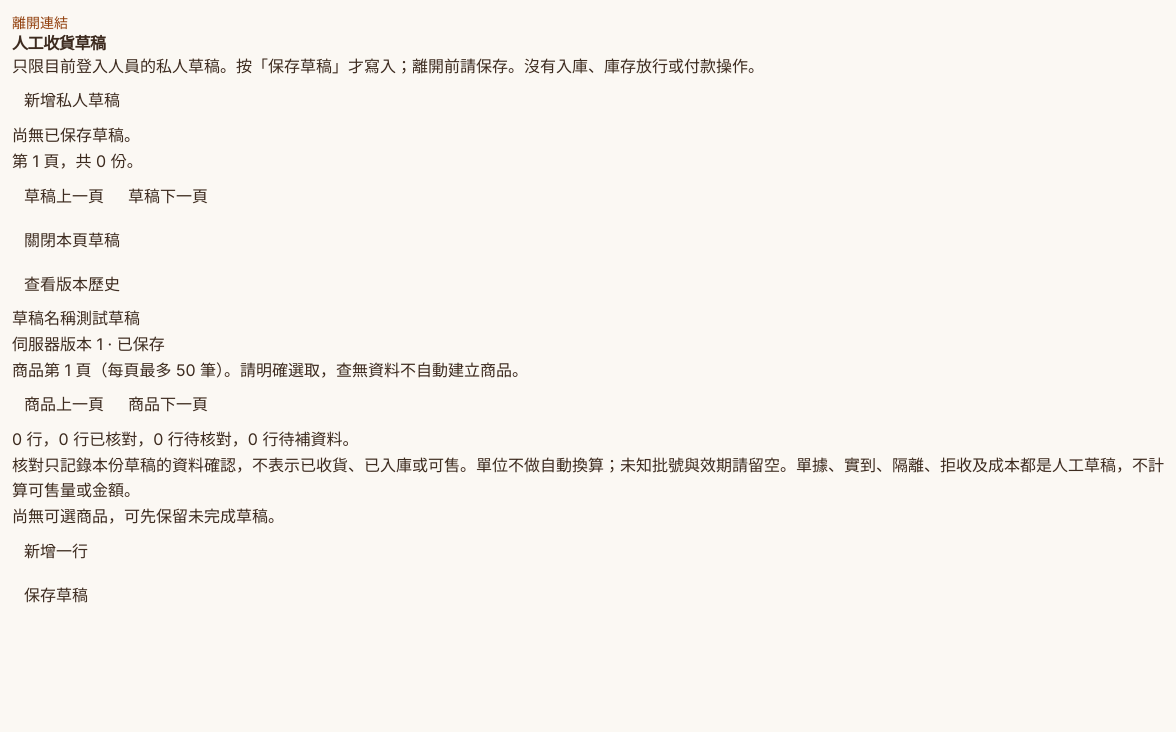
Scenario: hides the private draft after save authorization denial
This screenshot has width=1176, height=732.
Replace the text in the field showing "測試草稿" with "私人資料" at (193, 319), box [76,306,310,332]
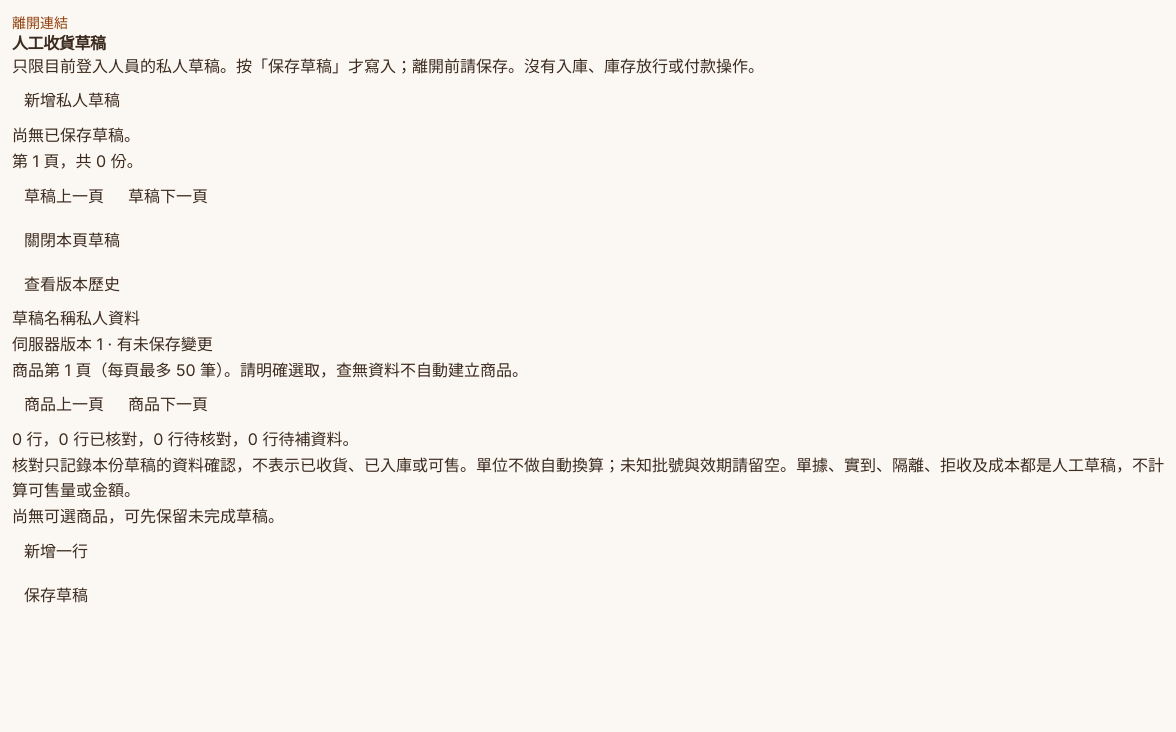
Click the button "保存草稿" at (56, 596), box [12,574,100,618]
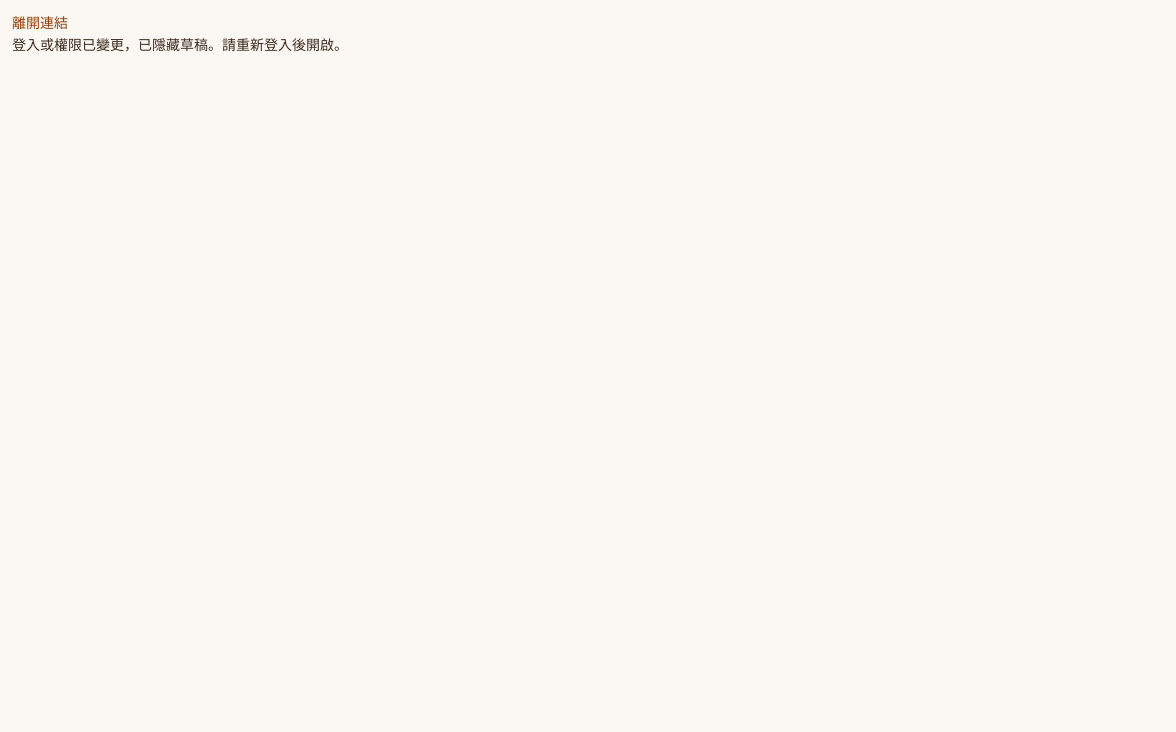
Expected: the field showing "私人資料" is not shown
Expected: the text "登入或權限已變更，已隱藏草稿。請重新登入後開啟。" is shown, [12,36,348,53]
